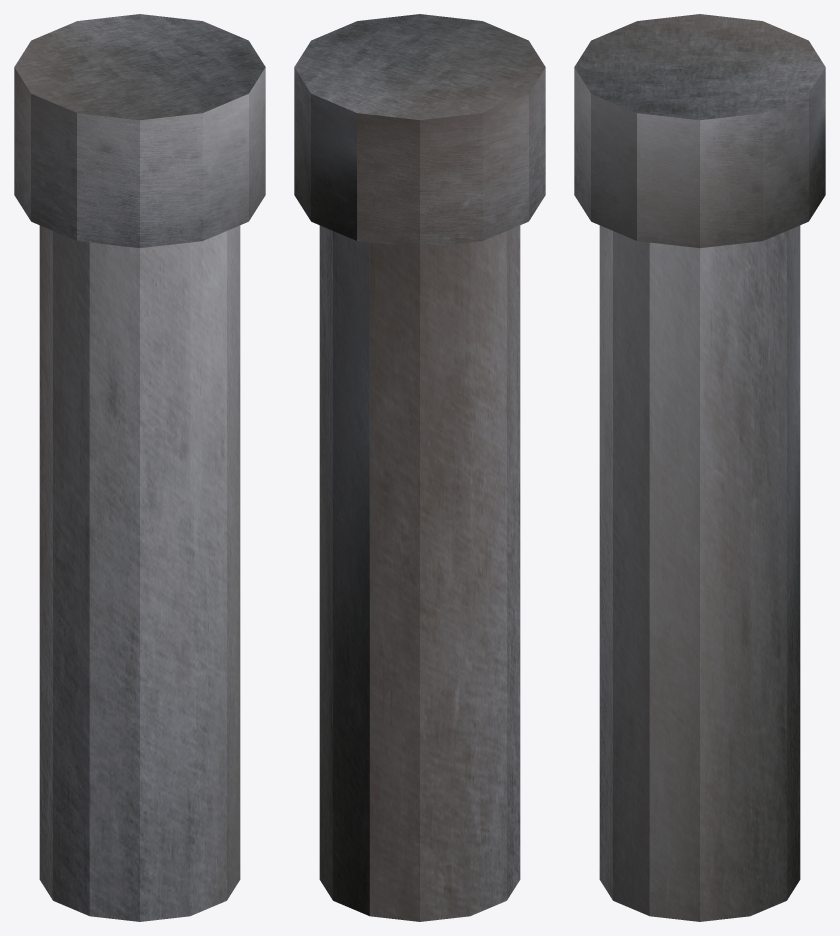
Rendered from tubo4.fbx.
3 views of the same model, side by side, from view 1: azimuth 30°, elevation 25°; view 2: azimuth 150°, elevation 25°; view 3: azimuth 270°, elevation 25° (orthographic).
Parts seen in each view (by area): view 1: Cylinder.008, Cylinder.007; view 2: Cylinder.008, Cylinder.007; view 3: Cylinder.008, Cylinder.007.
Boxes of the visible parts, <box> form: Cylinder.008: <box>39,225,240,921</box>; Cylinder.007: <box>14,14,265,248</box>; Cylinder.008: <box>319,225,520,921</box>; Cylinder.007: <box>294,14,545,248</box>; Cylinder.008: <box>599,225,800,921</box>; Cylinder.007: <box>574,14,825,248</box>.
Size of the model in its own units: 104 by 372 by 104.
Materials: 1 (1 with a texture image).
